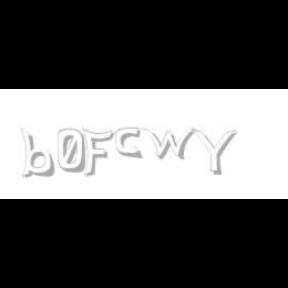0: (57, 128, 88, 174)
F: (81, 128, 113, 178)
Y: (191, 128, 237, 176)
b: (20, 128, 58, 178)
c: (116, 128, 144, 160)
w: (142, 128, 200, 160)
